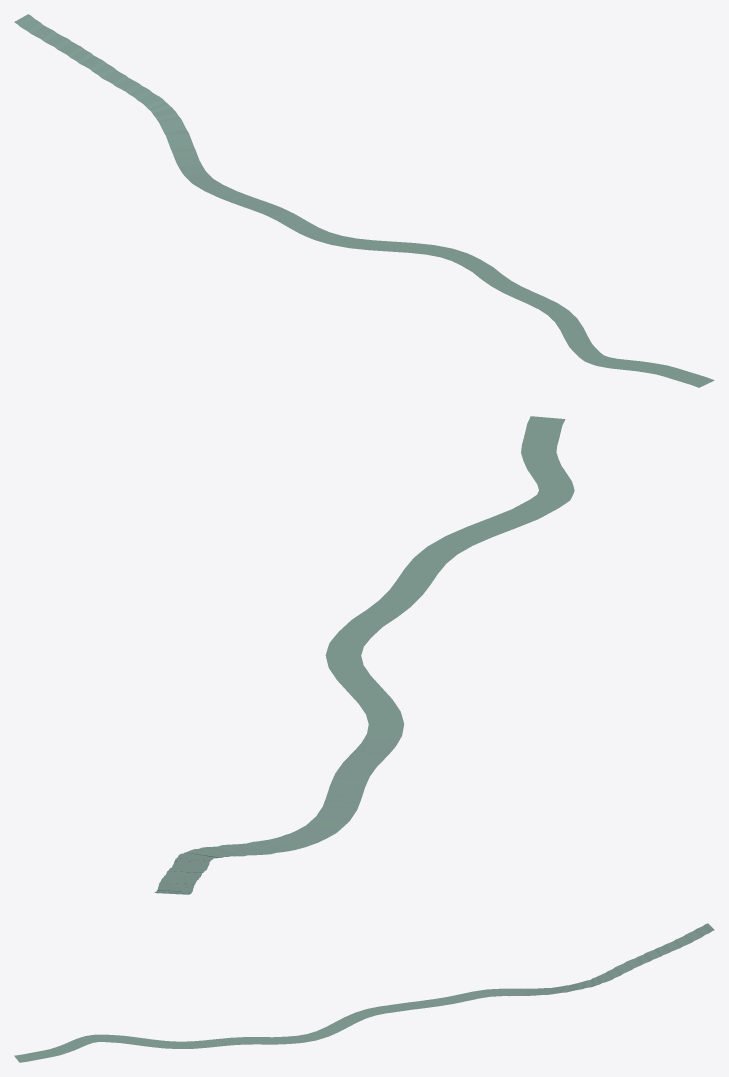
Rendered from ENV_Stream_Water.fbx.
3 views of the same model, one above another, from view 1: azimuth 30°, elevation 25°; view 2: azimuth 150°, elevation 25°; view 3: azimuth 270°, elevation 25° (orthographic). The views are drawn at different scales.
Visible parts, largest first — view 1: ENV_Stream_Water; view 2: ENV_Stream_Water; view 3: ENV_Stream_Water.
Boxes of the visible parts, x1,y1,x2,y2 form: ENV_Stream_Water: [14, 14, 714, 387]; ENV_Stream_Water: [154, 416, 574, 894]; ENV_Stream_Water: [14, 923, 714, 1062].
Bounding box in the file's own units: 58.86 × 17.81 × 206.
